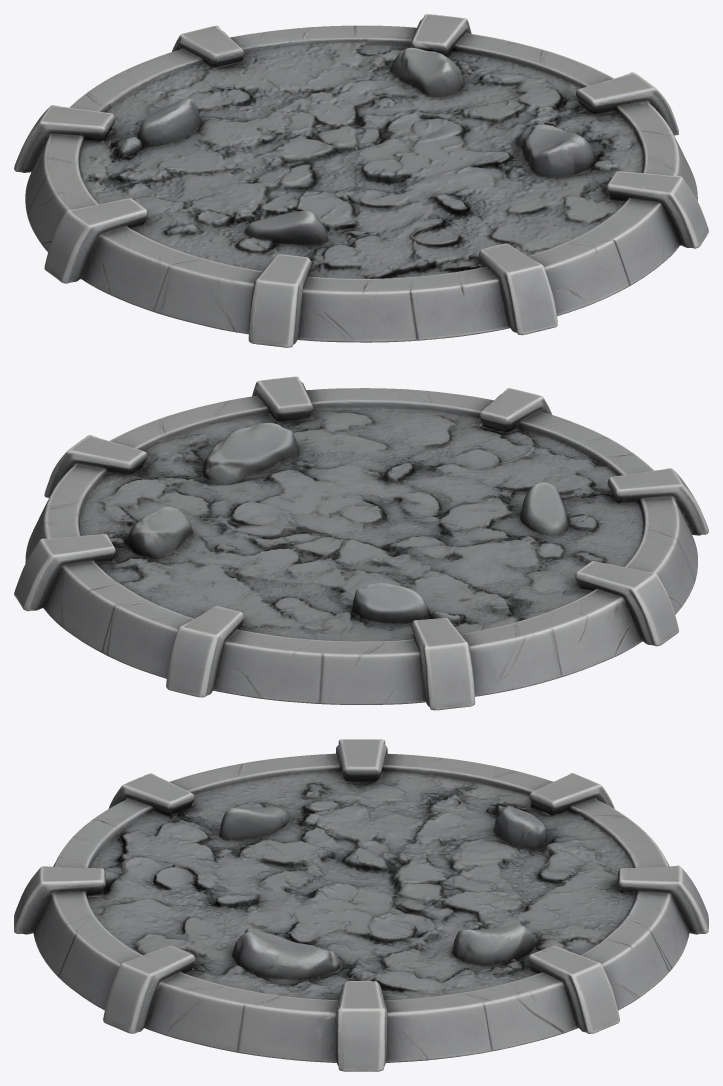
File: Meshy_AI_Stone_Arena_0219021932_texture.glb
3 views of the same model, one above another, from view 1: azimuth 30°, elevation 25°; view 2: azimuth 150°, elevation 25°; view 3: azimuth 270°, elevation 25° (orthographic). The views are drawn at different scales.
Bounding box in the file's own units: 1.9 × 0.1867 × 1.9.
1 material, 1 textured.
